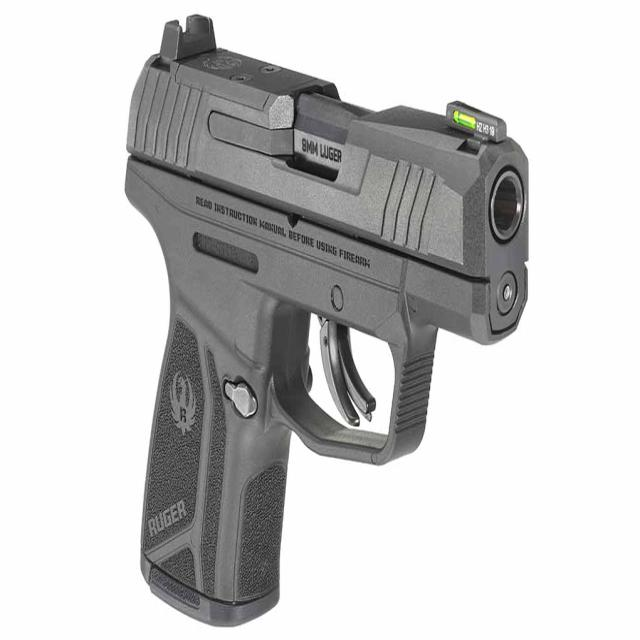HandGun: (123, 16, 531, 630)
